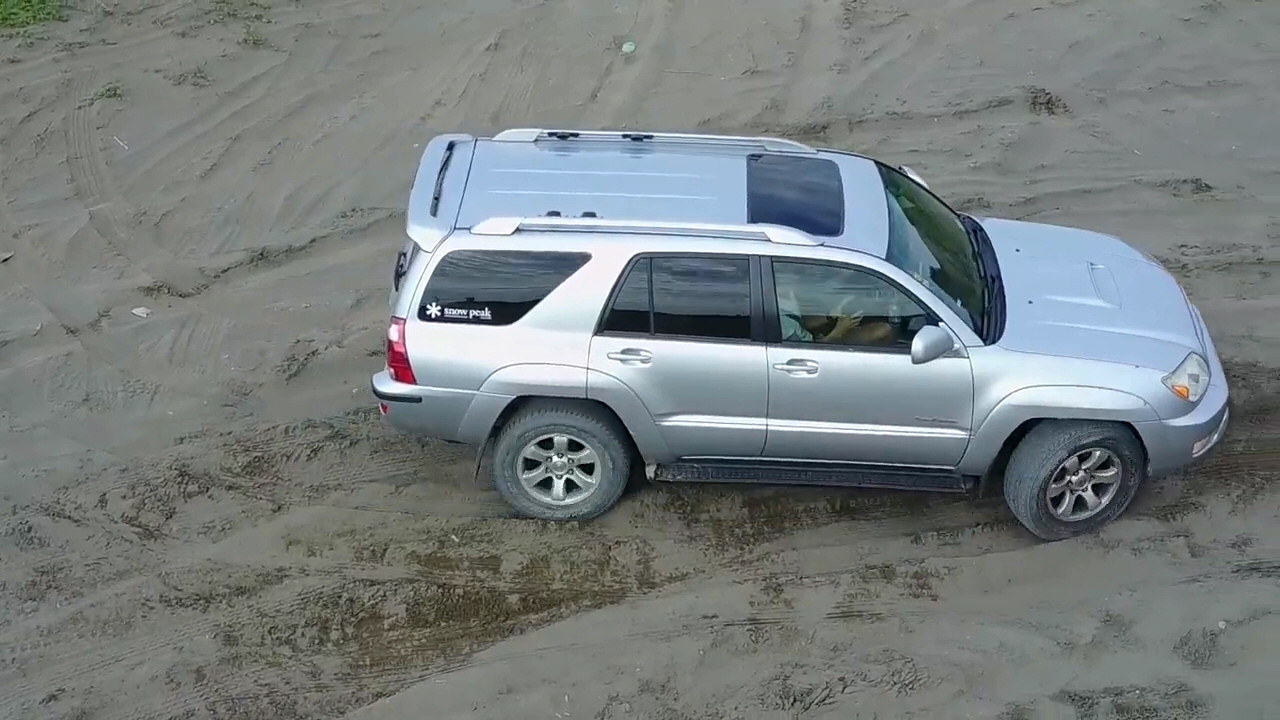araba: (384, 127, 1232, 542)
